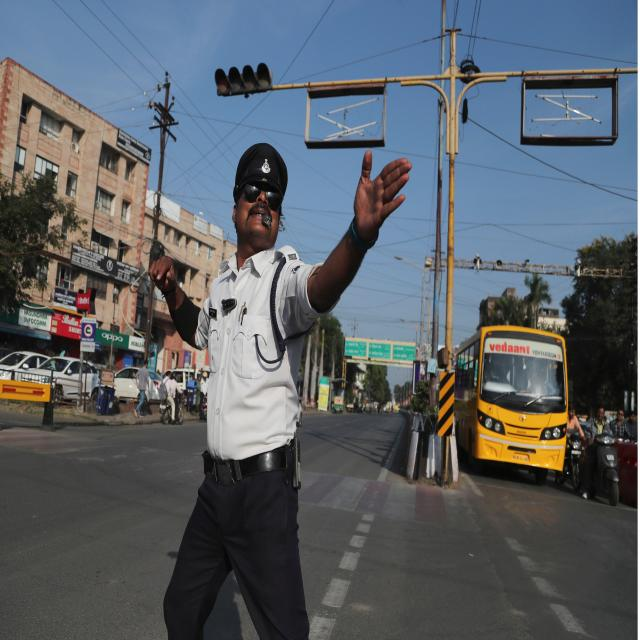bus: (455, 325, 569, 484)
motorcycle: (582, 405, 619, 506)
